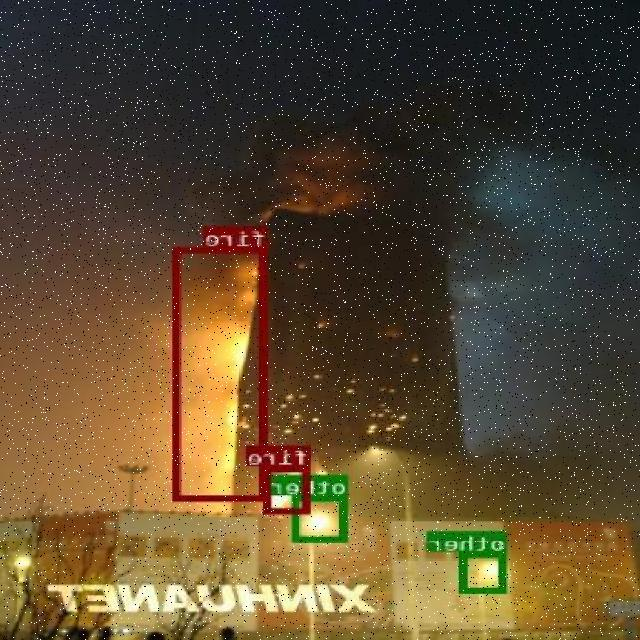other: (294, 494, 348, 540), (462, 550, 508, 592)
